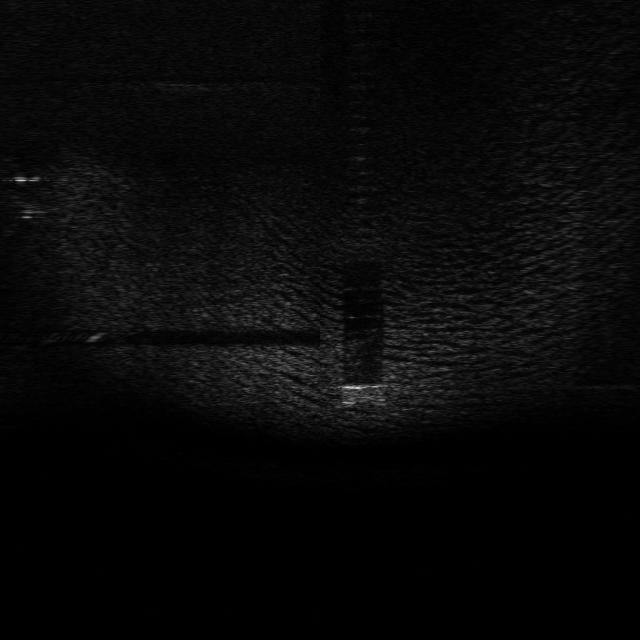cube: (342, 381, 391, 409)
